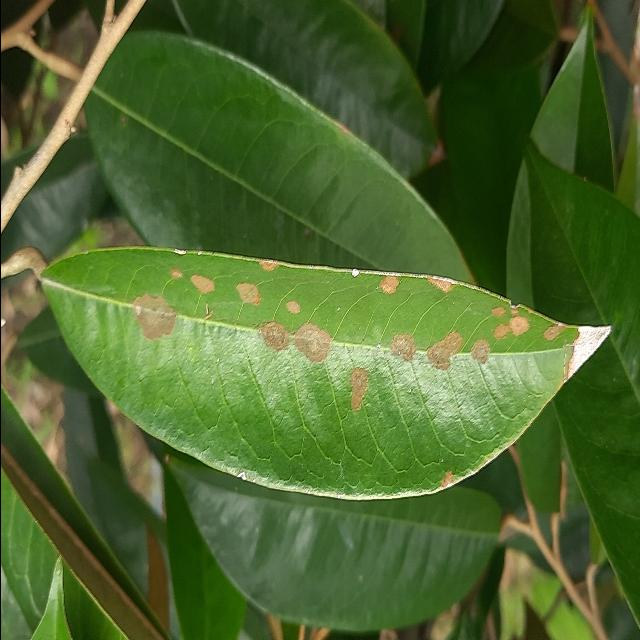Algal Leaf Spot: (35, 245, 613, 510)
